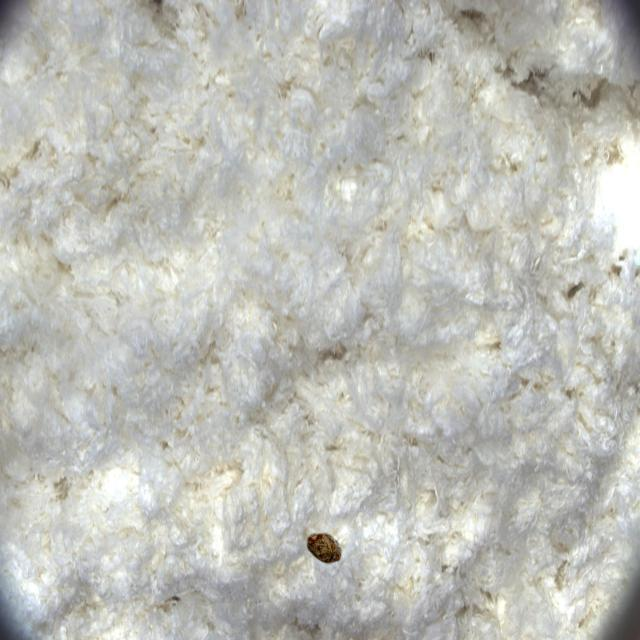dust: (296, 502, 363, 603)
